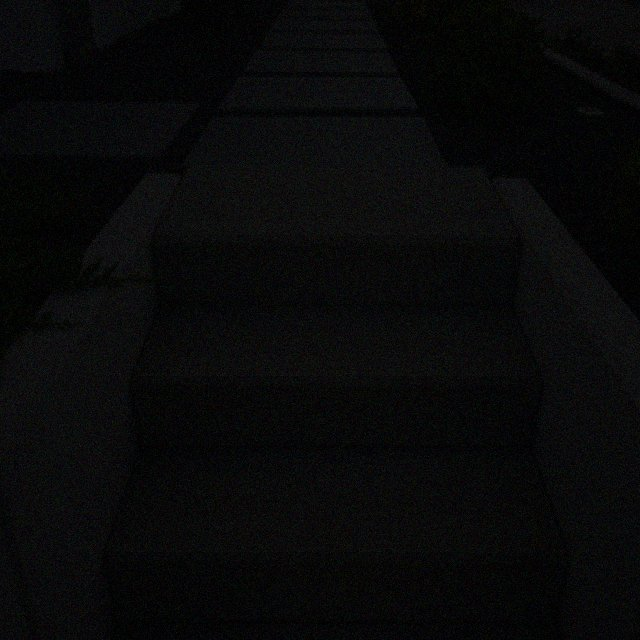stair: (105, 168, 565, 635)
